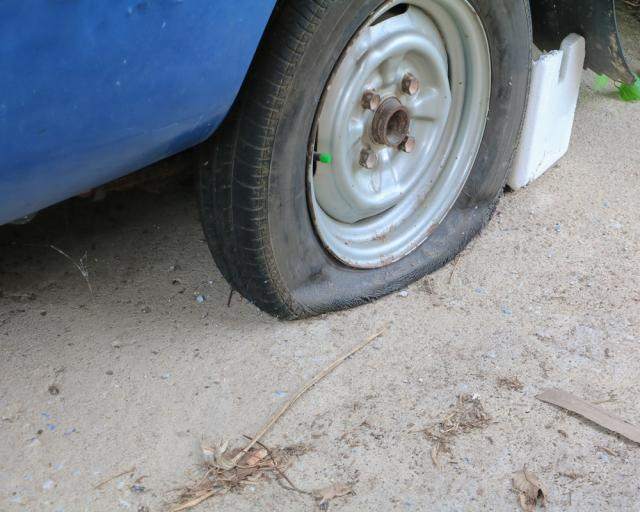tire flat: (199, 0, 534, 321)
